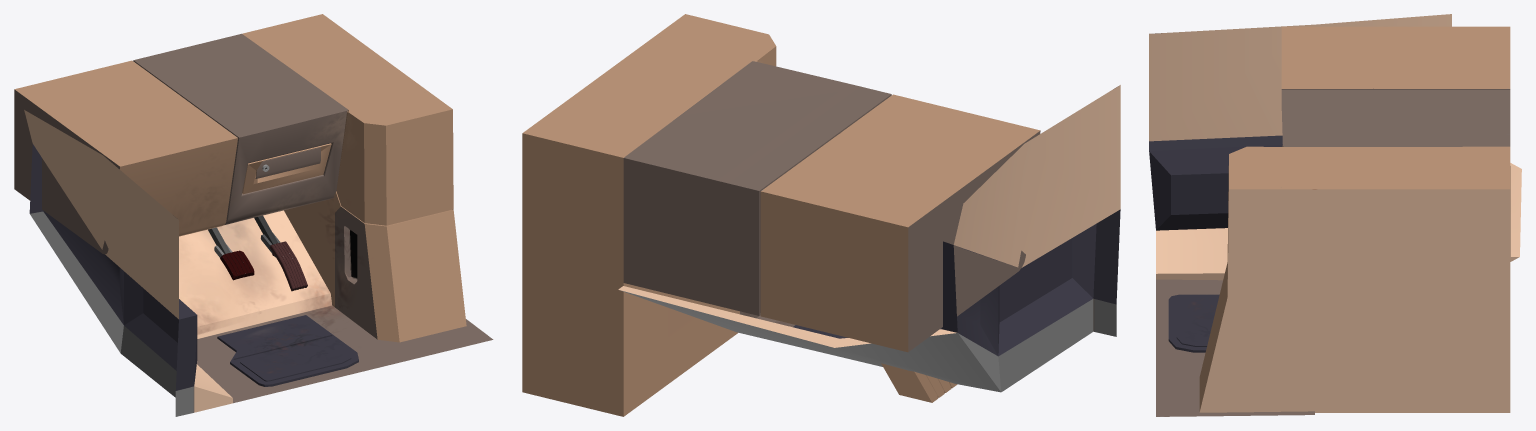
Rendered from Car Dashboard.fbx.
3 views of the same model, side by side, from view 1: azimuth 30°, elevation 25°; view 2: azimuth 150°, elevation 25°; view 3: azimuth 270°, elevation 25° (orthographic). The views are drawn at different scales.
Visible parts, largest first — view 1: Car Dashboard, Pedal 2, Pedal 1; view 2: Car Dashboard; view 3: Car Dashboard.
Boxes of the visible parts, <box> form: Car Dashboard: <box>14,14,493,416</box>; Pedal 2: <box>254,215,307,291</box>; Pedal 1: <box>208,227,254,280</box>; Car Dashboard: <box>522,14,1120,416</box>; Car Dashboard: <box>1149,14,1521,416</box>.
Size of the model in its own units: 696 by 422 by 626.
Materials: 3 (3 with a texture image).
